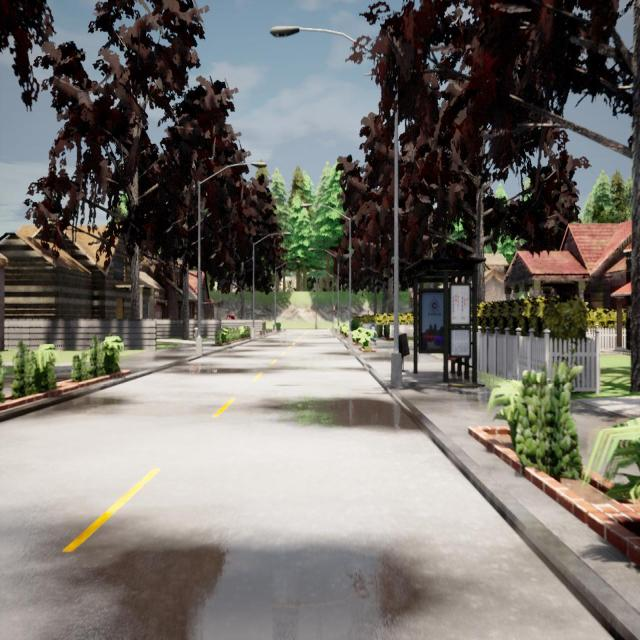traffic_light: (333, 305, 336, 313)
